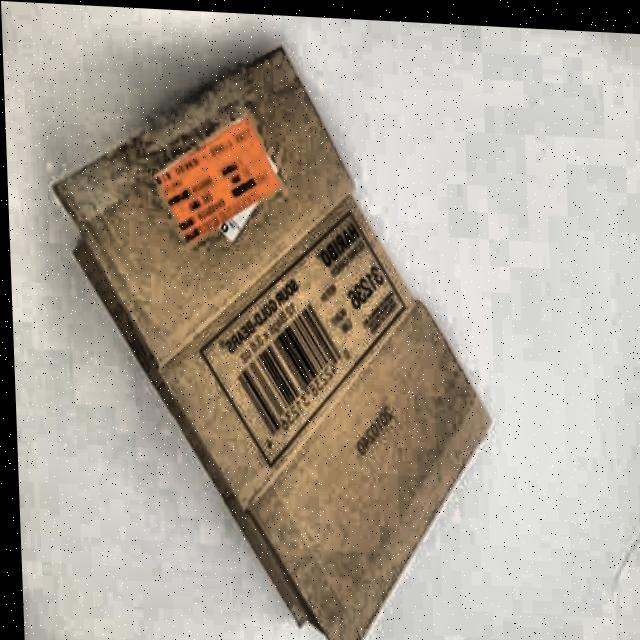cardboard: (45, 29, 501, 640)
